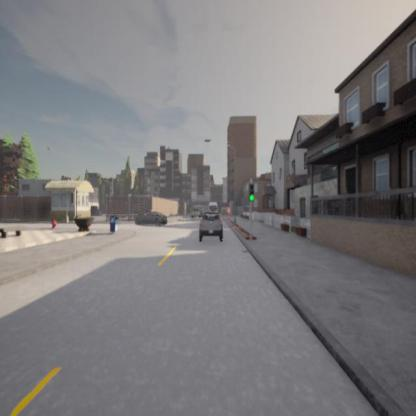traffic_light_green: (247, 184, 255, 202)
vehicle: (197, 213, 224, 239), (135, 212, 167, 226)
